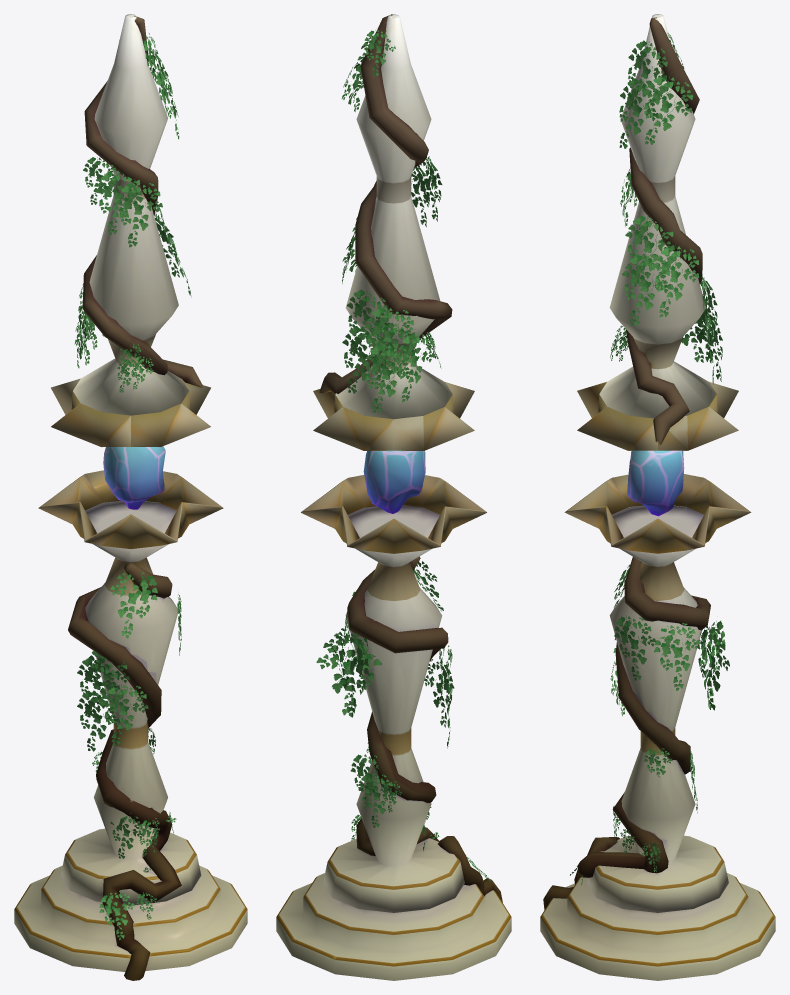
The model's file is Tower.fbx.
The picture shows the model from 3 angles, left to right: view 1: azimuth 30°, elevation 25°; view 2: azimuth 150°, elevation 25°; view 3: azimuth 270°, elevation 25°; orthographic projection.
Visible parts, largest first — view 1: Tower; view 2: Tower; view 3: Tower.
Boxes of the visible parts, x1,y1,x2,y2 form: Tower: (14, 14, 247, 980); Tower: (276, 14, 511, 980); Tower: (540, 14, 775, 980).
Size of the model in its own units: 632 by 2722 by 632.
Materials: 4 (4 with a texture image).
